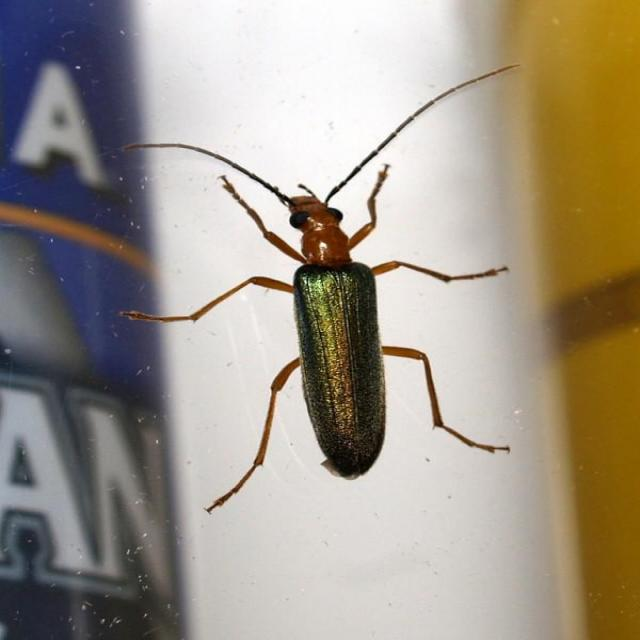BlisterBeetle-Adult-: (105, 67, 559, 536)
